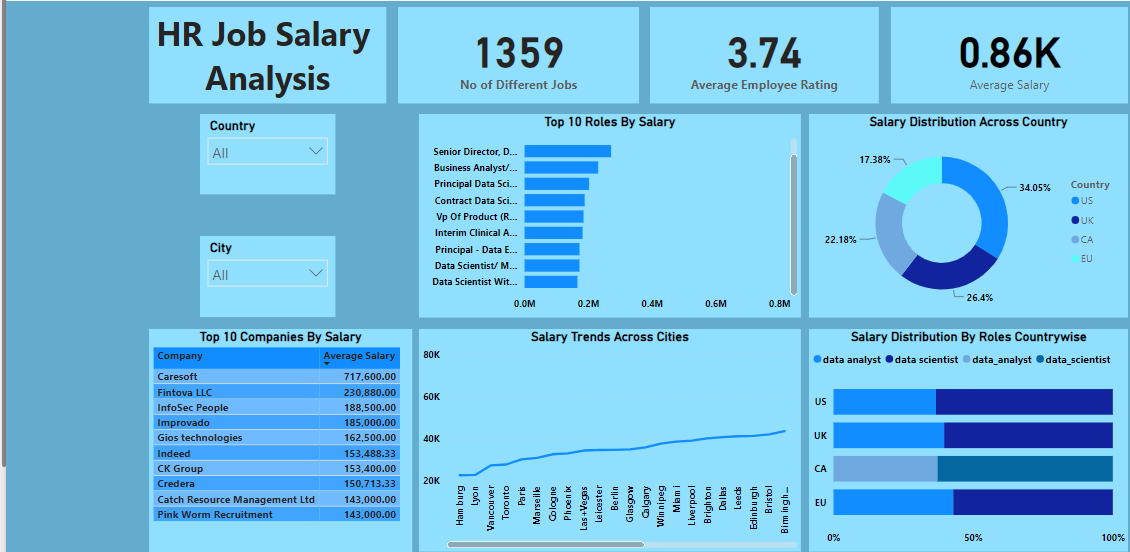

The page's visual inventory and layout, read from the dashboard file:
{"tool":"powerbi","page":{"name":"Page 1","canvas":[1280,720],"ordinal":0},"visuals":[{"type":"textbox","box":[0,8,310.1,126.4],"z":0},{"type":"card","fields":{"Values":["Count(pre_processed_data.title)"]},"box":[324.7,8,315.4,126.4],"z":1000},{"type":"slicer","fields":{"Values":["pre_processed_data.country"]},"box":[66.5,147.7,177,105.1],"z":2000},{"type":"card","fields":{"Values":["Avg(pre_processed_data.employer_rating)"]},"box":[654.8,8,299.4,126.4],"z":3000},{"type":"barChart","title":"Top 10 Roles By Salary","fields":{"Y":["Avg(pre_processed_data.salary)"],"Category":["pre_processed_data.title"]},"box":[352.7,147.7,499.1,266.2],"z":4000},{"type":"card","fields":{"Values":["Count(pre_processed_data.salary)"]},"box":[970.2,8,310.1,126.4],"z":5000},{"type":"tableEx","title":"Top 10 Companies By Salary","fields":{"Values":["pre_processed_data.employer","Avg(pre_processed_data.salary)"]},"box":[0,428,344.1,291.8],"z":6000},{"type":"slicer","fields":{"Values":["pre_processed_data.search_city"]},"box":[66.5,307.4,177,106.5],"z":7000},{"type":"donutChart","title":"Salary Distribution Across Country","fields":{"Category":["pre_processed_data.country"],"Y":["Avg(pre_processed_data.salary)"]},"box":[863,147.3,417,265.6],"z":8000},{"type":"lineChart","title":"Salary Trends Across Cities","fields":{"Category":["pre_processed_data.search_city"],"Y":["Avg(pre_processed_data.salary)"]},"box":[352.7,428.5,499.1,291.5],"z":9000},{"type":"hundredPercentStackedBarChart","title":"Salary Distribution By Roles Countrywise","fields":{"Category":["pre_processed_data.country"],"Y":["Avg(pre_processed_data.salary)"],"Series":["pre_processed_data.search_role"]},"box":[862.4,428.5,417.9,291.5],"z":10000}]}

Visuals, with their boxes on the page's 1280x720 design canvas (x1, y1, x2, y2). These are canvas units, not pixel positions in the 1130x552 screenshot, which may show the page scaled, cropped or inside an application window:
textbox: <box>0,8,310,134</box>
card - Count(pre_processed_data.title): <box>325,8,640,134</box>
slicer - pre_processed_data.country: <box>66,148,244,253</box>
card - Avg(pre_processed_data.employer_rating): <box>655,8,954,134</box>
"Top 10 Roles By Salary" barChart: <box>353,148,852,414</box>
card - Count(pre_processed_data.salary): <box>970,8,1280,134</box>
"Top 10 Companies By Salary" tableEx: <box>0,428,344,720</box>
slicer - pre_processed_data.search_city: <box>66,307,244,414</box>
"Salary Distribution Across Country" donutChart: <box>863,147,1280,413</box>
"Salary Trends Across Cities" lineChart: <box>353,428,852,720</box>
"Salary Distribution By Roles Countrywise" hundredPercentStackedBarChart: <box>862,428,1280,720</box>
